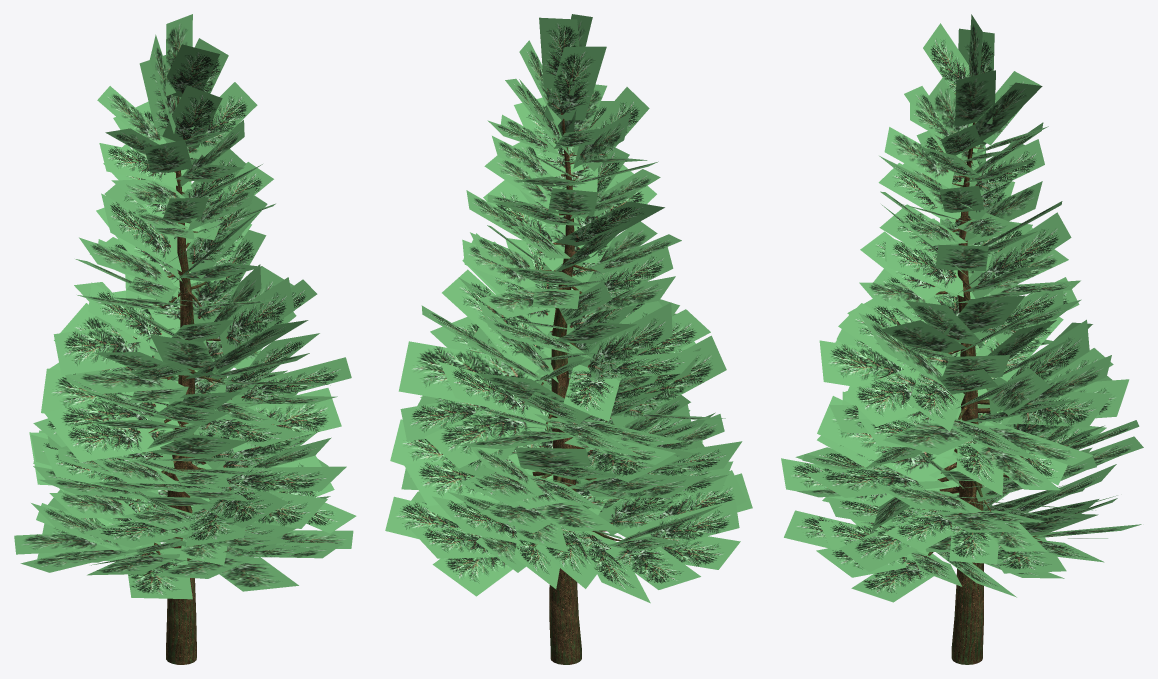
The model's file is sb_obj_nature001_Tree02a.fbx.
3 renders of one model, left to right at view 1: azimuth 30°, elevation 25°; view 2: azimuth 150°, elevation 25°; view 3: azimuth 270°, elevation 25°, orthographic.
Parts seen in each view (by area): view 1: tree02_leaf, sb_obj_nature001_Tree02a; view 2: tree02_leaf, sb_obj_nature001_Tree02a; view 3: tree02_leaf, sb_obj_nature001_Tree02a.
Boxes of the visible parts, bbox=[...] form: tree02_leaf: bbox=[14, 14, 356, 599]; sb_obj_nature001_Tree02a: bbox=[129, 96, 231, 664]; tree02_leaf: bbox=[385, 14, 752, 603]; sb_obj_nature001_Tree02a: bbox=[532, 118, 621, 664]; tree02_leaf: bbox=[781, 14, 1143, 602]; sb_obj_nature001_Tree02a: bbox=[924, 122, 1040, 664].
Bounding box in the file's own units: 3.61 × 7.18 × 3.7.
Materials: 2 (2 with a texture image).
